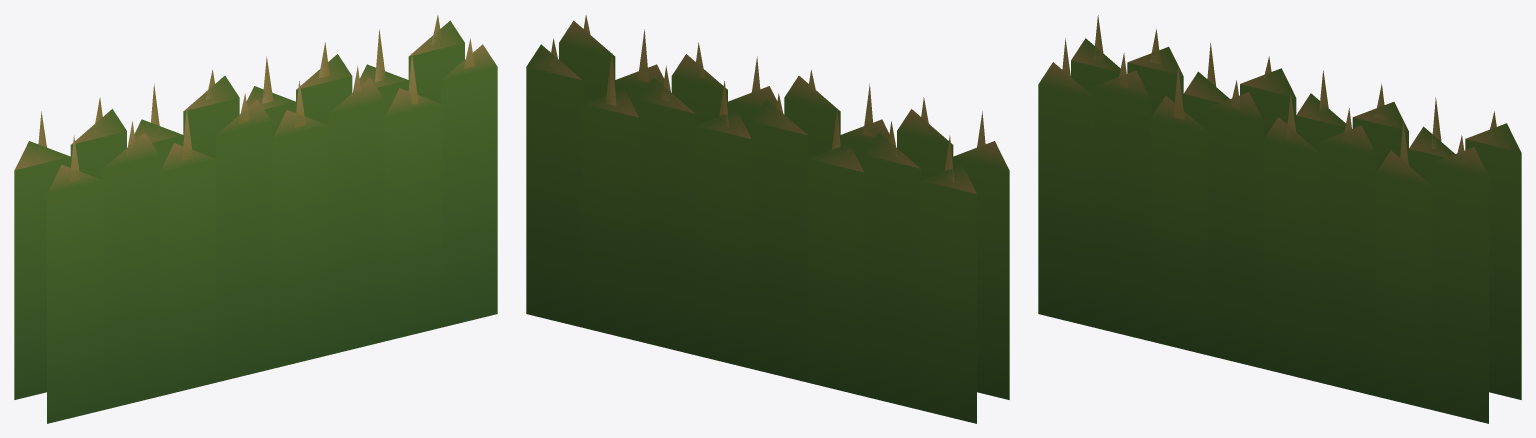
The model's file is corn_wall_band.glb.
3 renders of one model, left to right at view 1: azimuth 30°, elevation 25°; view 2: azimuth 150°, elevation 25°; view 3: azimuth 330°, elevation 25°, orthographic.
Visible parts, largest first — view 1: Band; view 2: Band; view 3: Band.
Part boxes in pixels (bbox=[...]): Band: bbox=[14, 15, 497, 423]; Band: bbox=[526, 15, 1009, 423]; Band: bbox=[1038, 15, 1521, 423].
Size of the model in its own units: 4 by 2.4 by 0.5.
